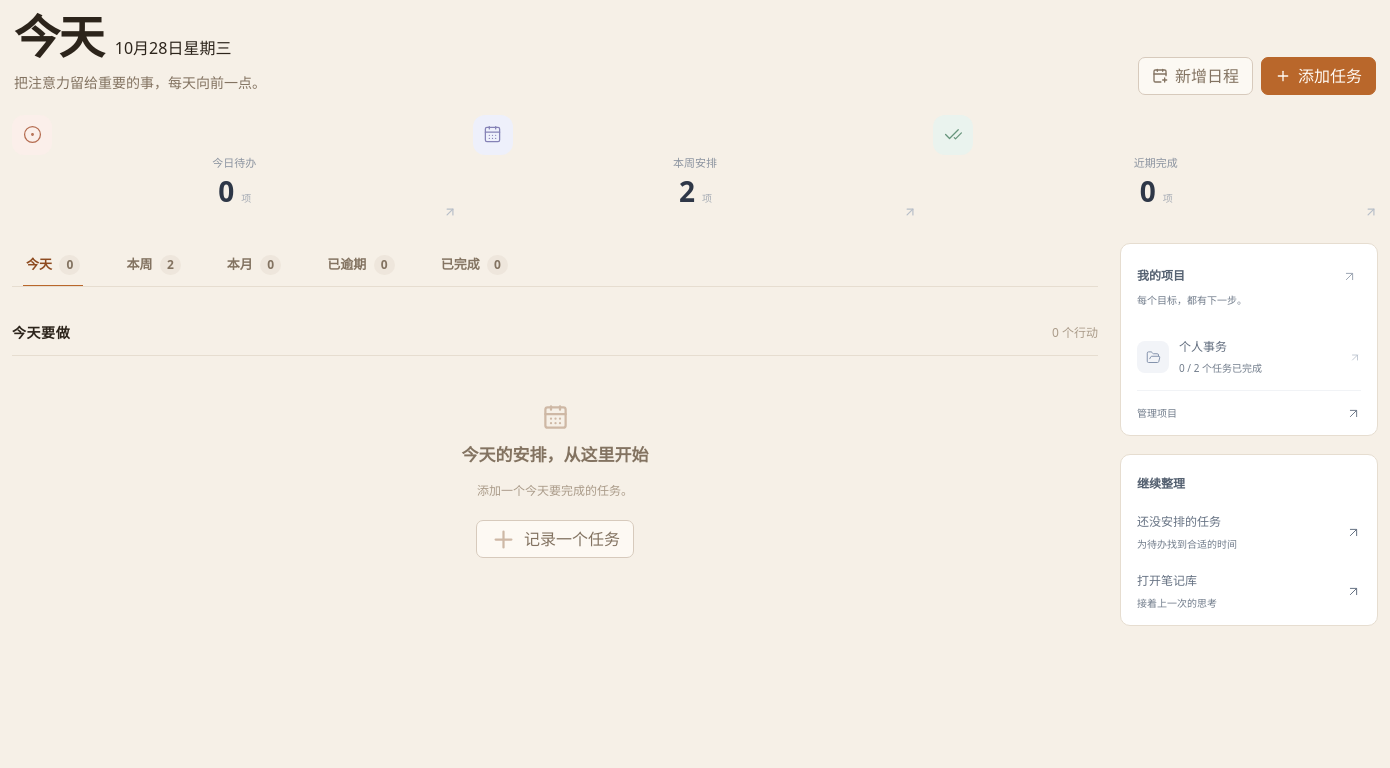
Test: Dashboard v2 today projection › keeps a recurring weekly task in a collection even with one execution
The width and height of the screenshot is (1390, 768).
Click the tab "本周 2".
click(154, 265)  # box [112,243,195,286]
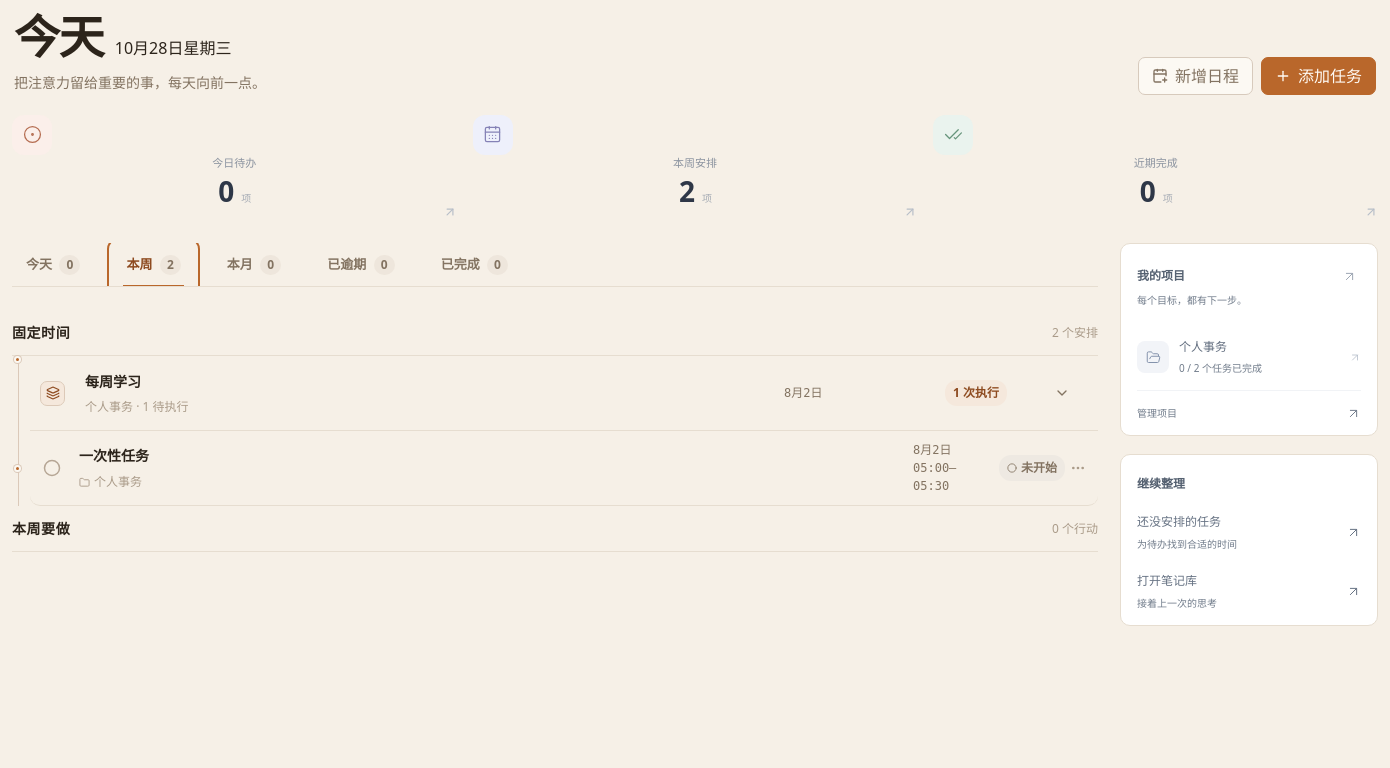
Now the text "一次性任务" is shown, box [79,446,149,465]
Click the button with aria-label "展开每周学习，1 次执行".
click(113, 381)  # box [30,356,1098,430]
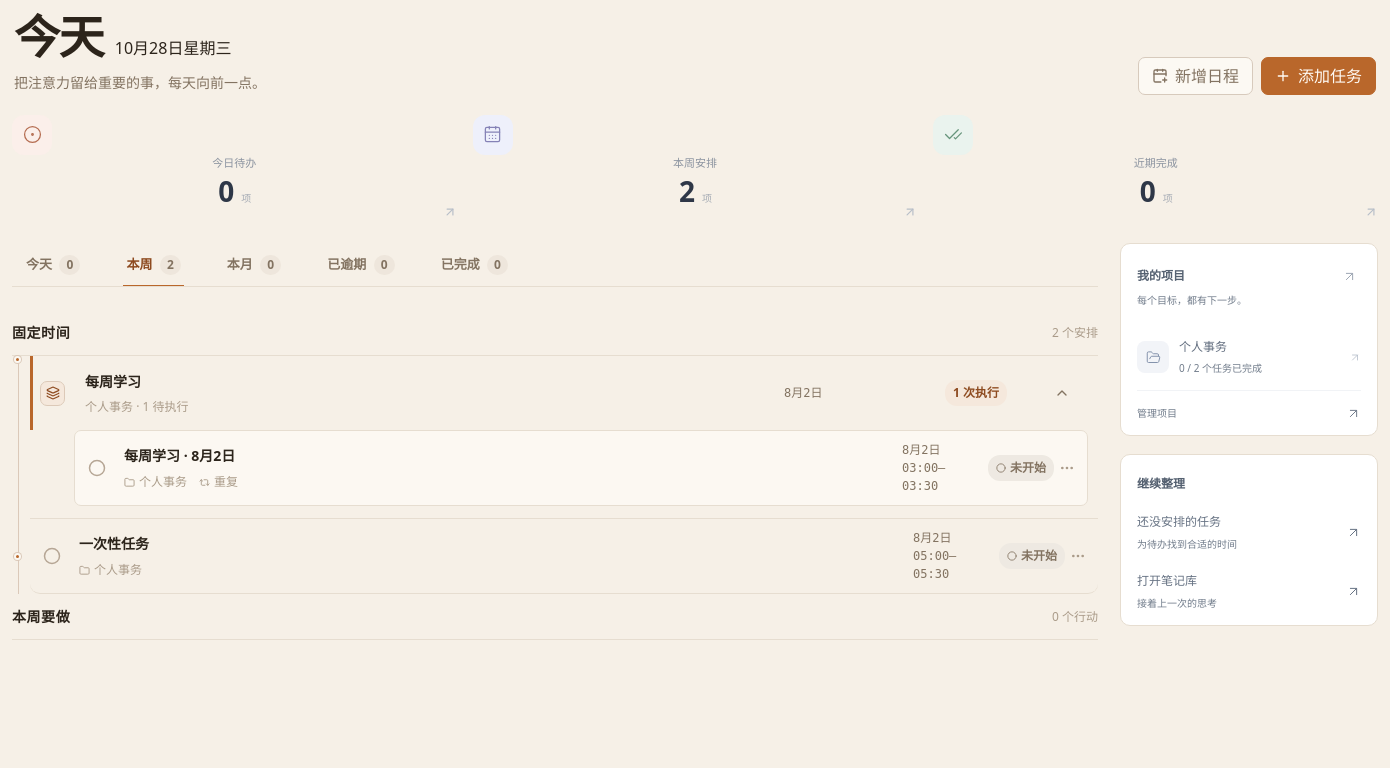
Now the text "每周学习 · 8月2日" is shown, box [124,446,235,465]
